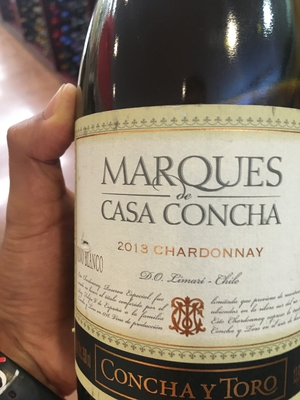marques de casa concha chardonnay: (60, 48, 300, 396)
